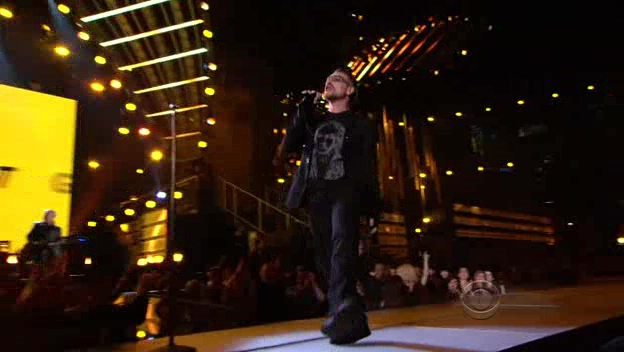person: (291, 70, 366, 230), (288, 70, 363, 230), (294, 70, 369, 230), (291, 67, 366, 227), (291, 73, 366, 233)
target_negative: (188, 37, 386, 307), (292, 38, 419, 295), (108, 273, 314, 305), (138, 111, 179, 224), (548, 172, 578, 210), (328, 295, 338, 333)
